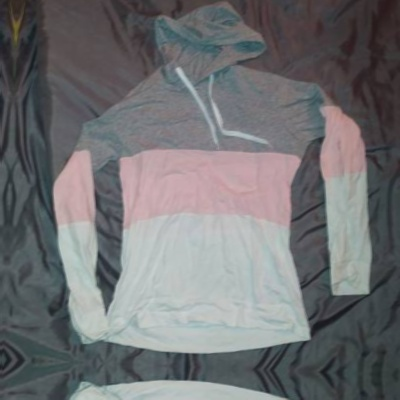Hoodie: (33, 4, 383, 363), (19, 373, 368, 400)
